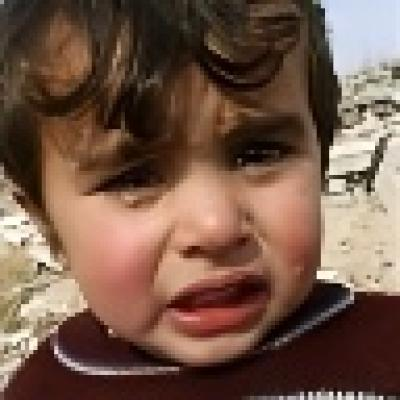sad: (43, 27, 334, 348)
